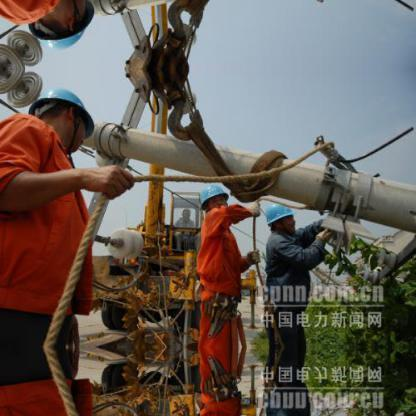helmet: (25, 87, 98, 130), (196, 179, 235, 212), (262, 200, 296, 229)
